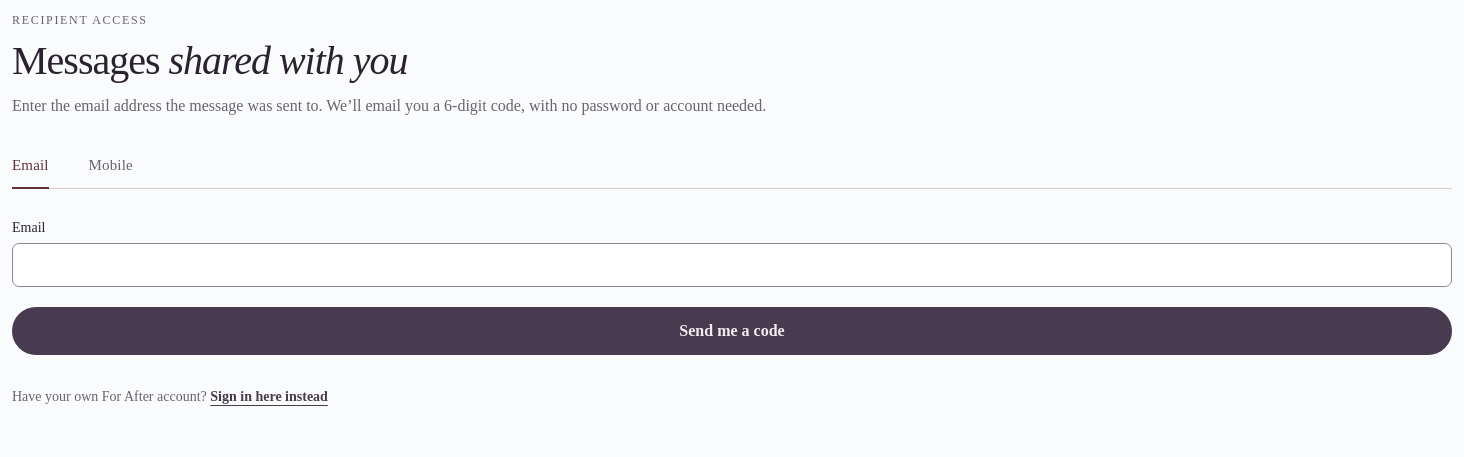
Test case: Recipient sign-in (FE-21) › shows a safe message for a wrong code and clears it
Type "sofia@example.com" into the field labelled "Email" at (732, 264), box [12, 242, 1452, 286]
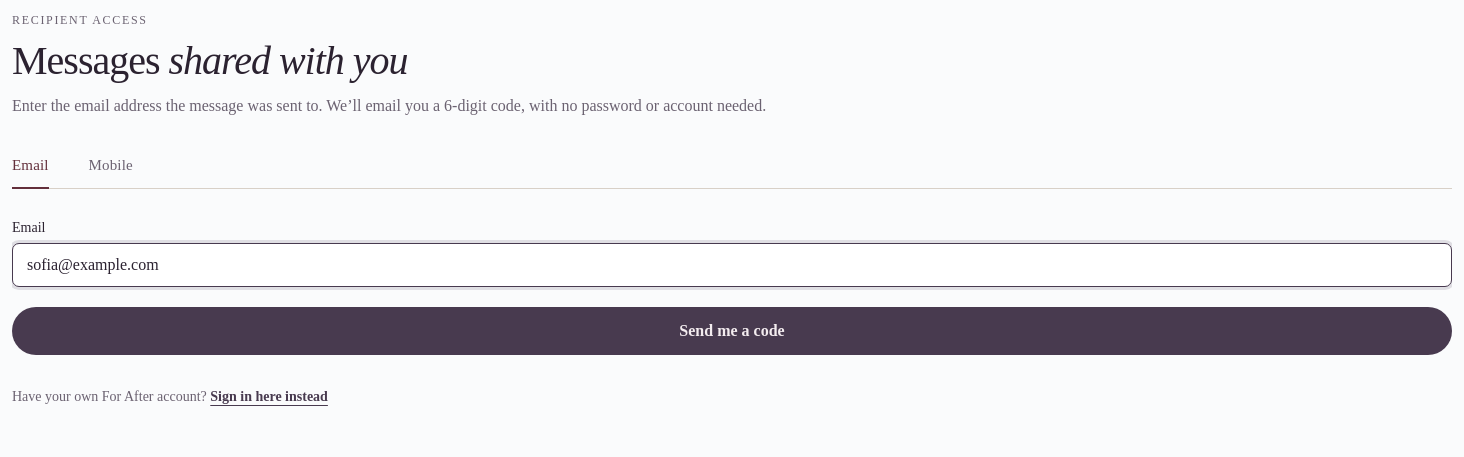
Click the button "Send me a code" at (732, 330), box [12, 306, 1452, 354]
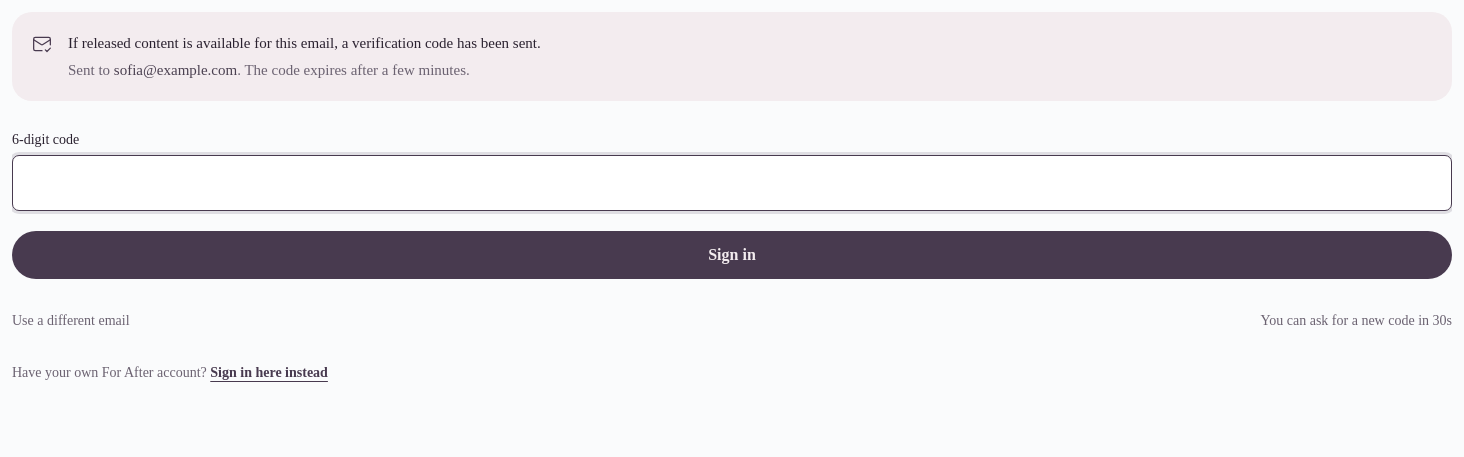
Type "000000" into the field labelled "6-digit code" at (732, 183), box [12, 155, 1452, 211]
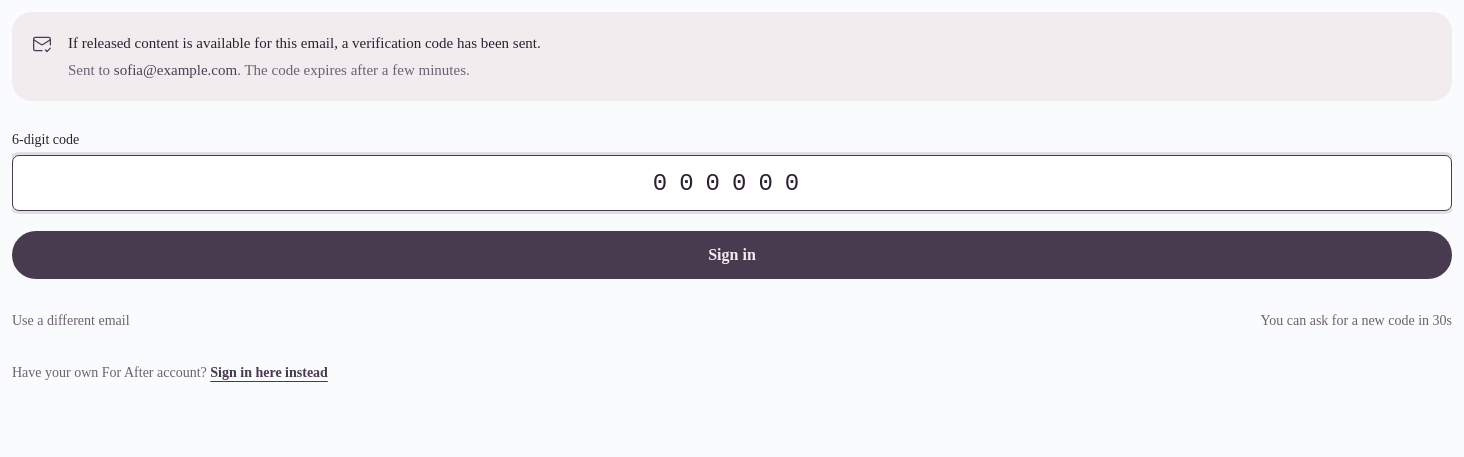
Click the button "Sign in" at (732, 255), box [12, 231, 1452, 279]
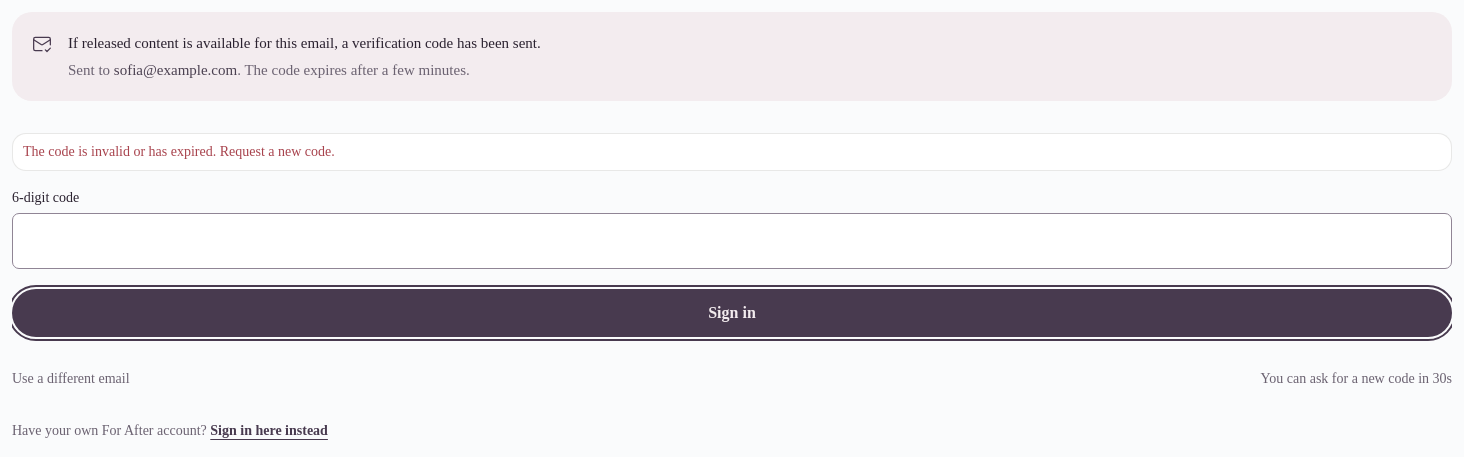
expect the text "The code is invalid or has expired. Request a new code." is shown: met, box [23, 144, 335, 159]
expect the field labelled "6-digit code" is empty: met, box [12, 213, 1452, 269]
